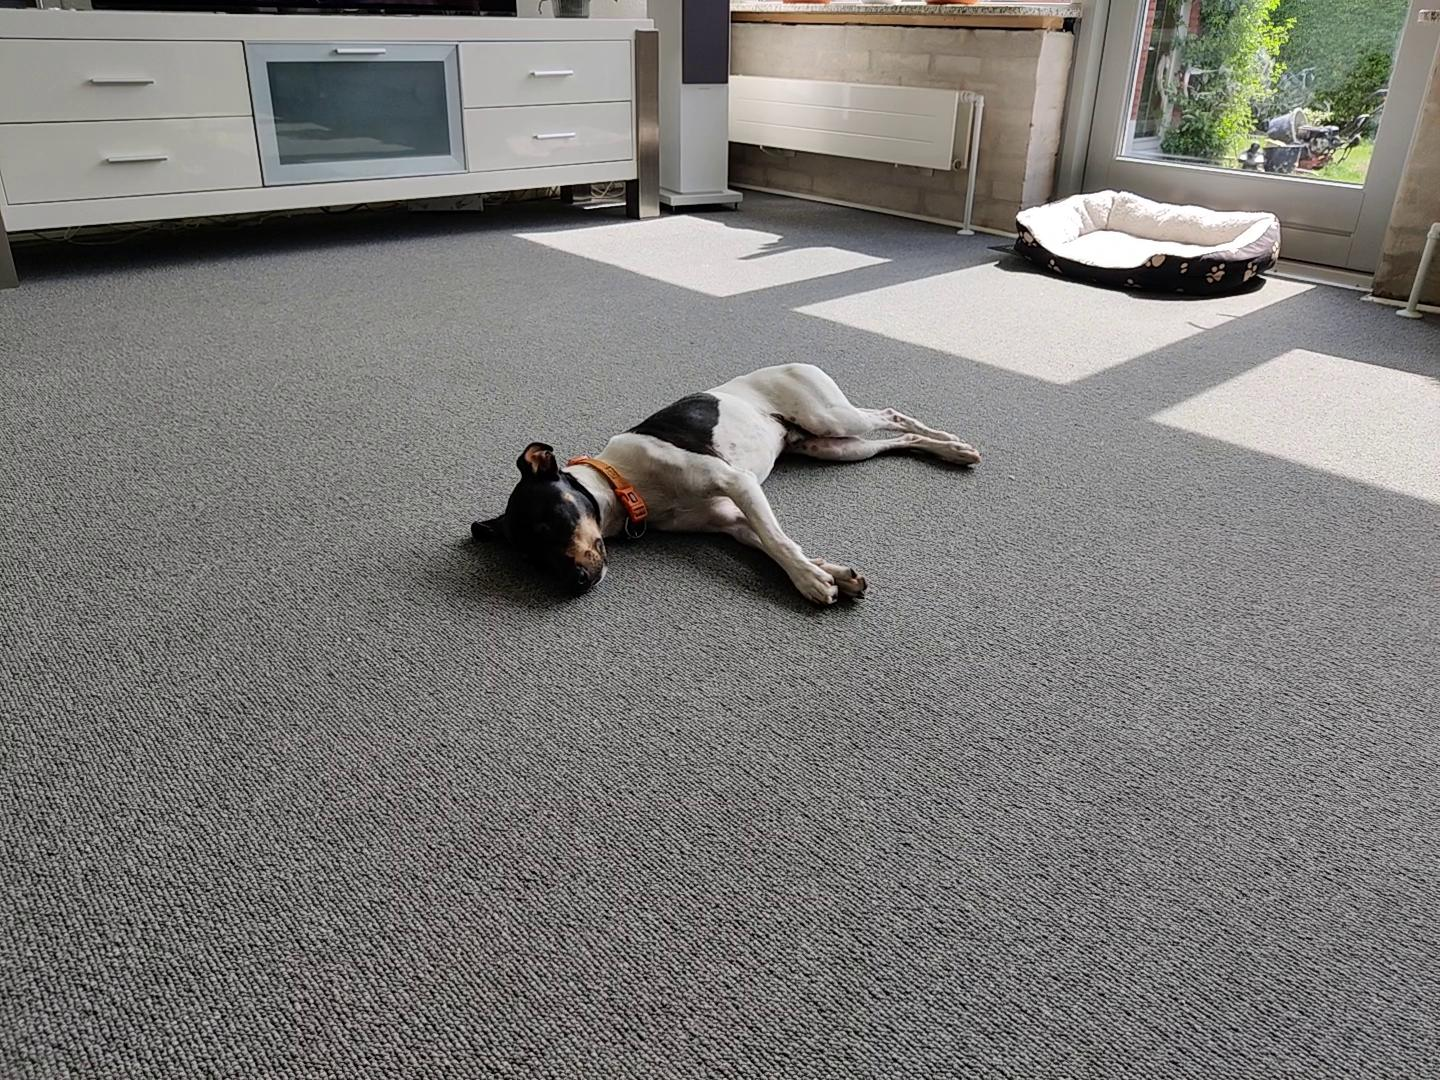Dog: (447, 352, 1000, 617)
